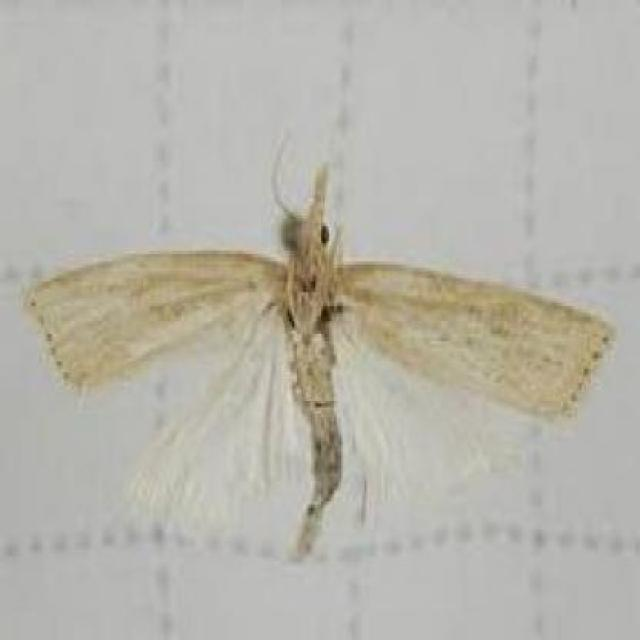stem-borer: (23, 159, 619, 533)
